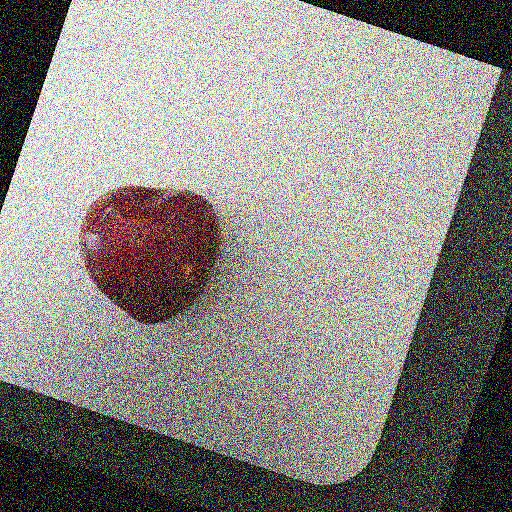fruit: (0, 76, 180, 417)
